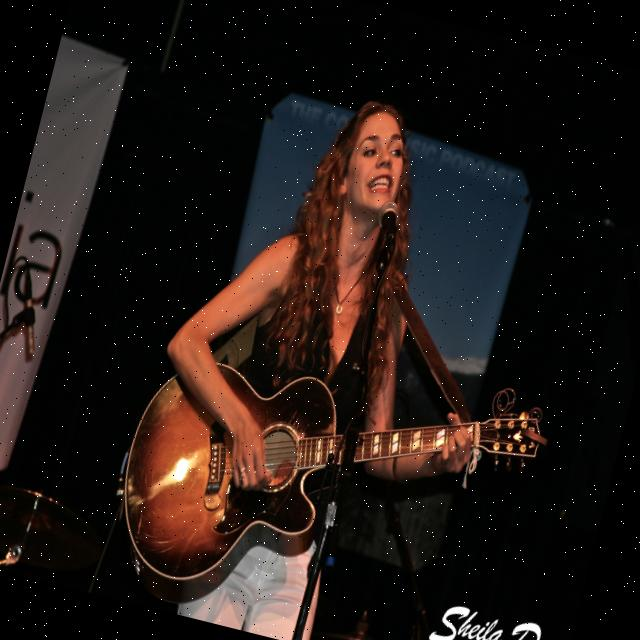guitar: (92, 318, 557, 640)
